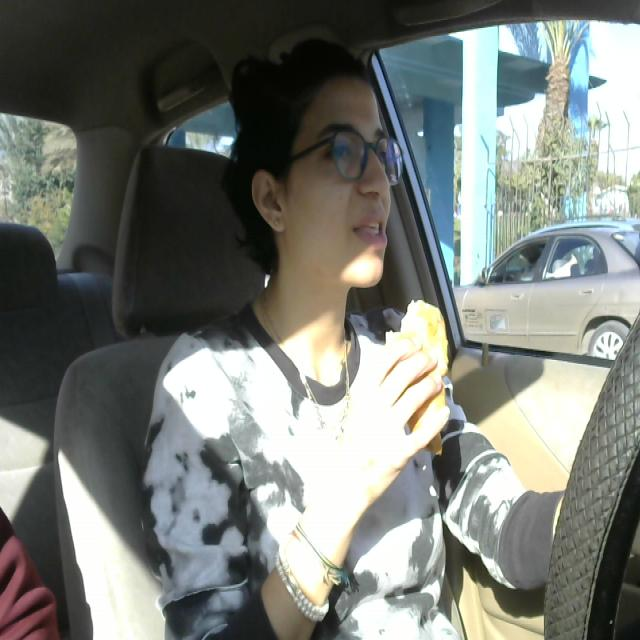eating: (387, 296, 453, 457)
